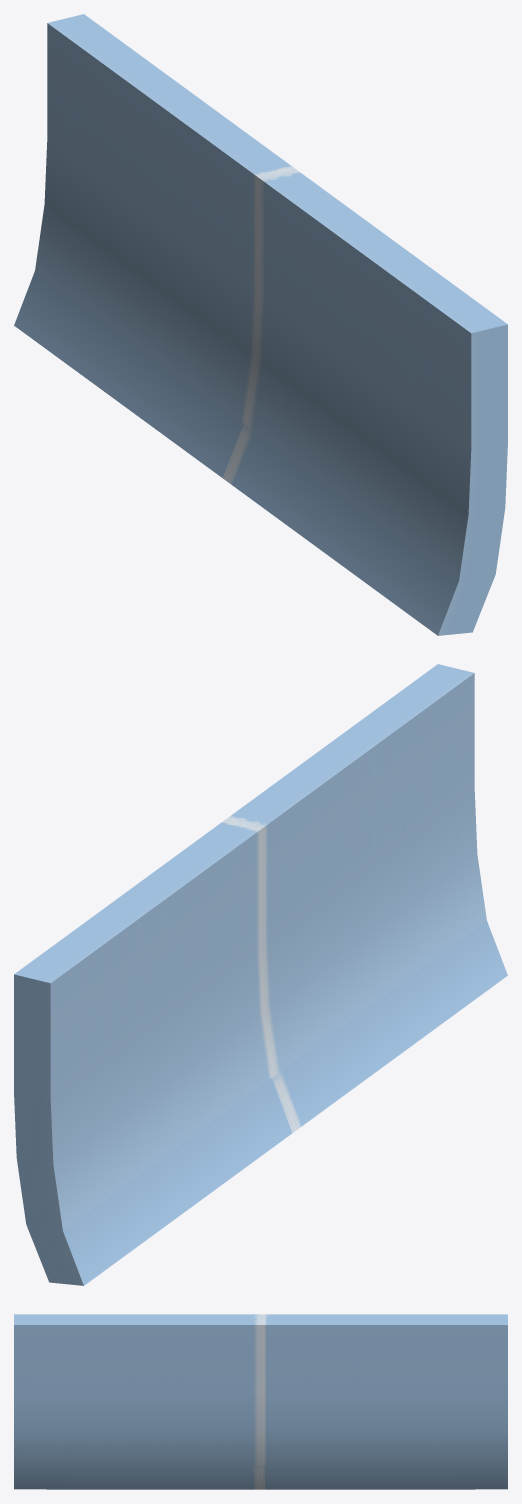
Rendered from LeftSideWall.fbx.
3 renders of one model, top to bottom at view 1: azimuth 30°, elevation 25°; view 2: azimuth 150°, elevation 25°; view 3: azimuth 270°, elevation 25°, orthographic. The views are drawn at different scales.
Parts seen in each view (by area): view 1: LeftSideWall; view 2: LeftSideWall; view 3: LeftSideWall.
Boxes of the visible parts, x1=… form: LeftSideWall: x1=14, y1=14, x2=507, y2=635; LeftSideWall: x1=14, y1=664, x2=507, y2=1285; LeftSideWall: x1=14, y1=1314, x2=507, y2=1489.
Size of the model in its own units: 1.91 by 7.8 by 20.
Materials: 1 (1 with a texture image).
